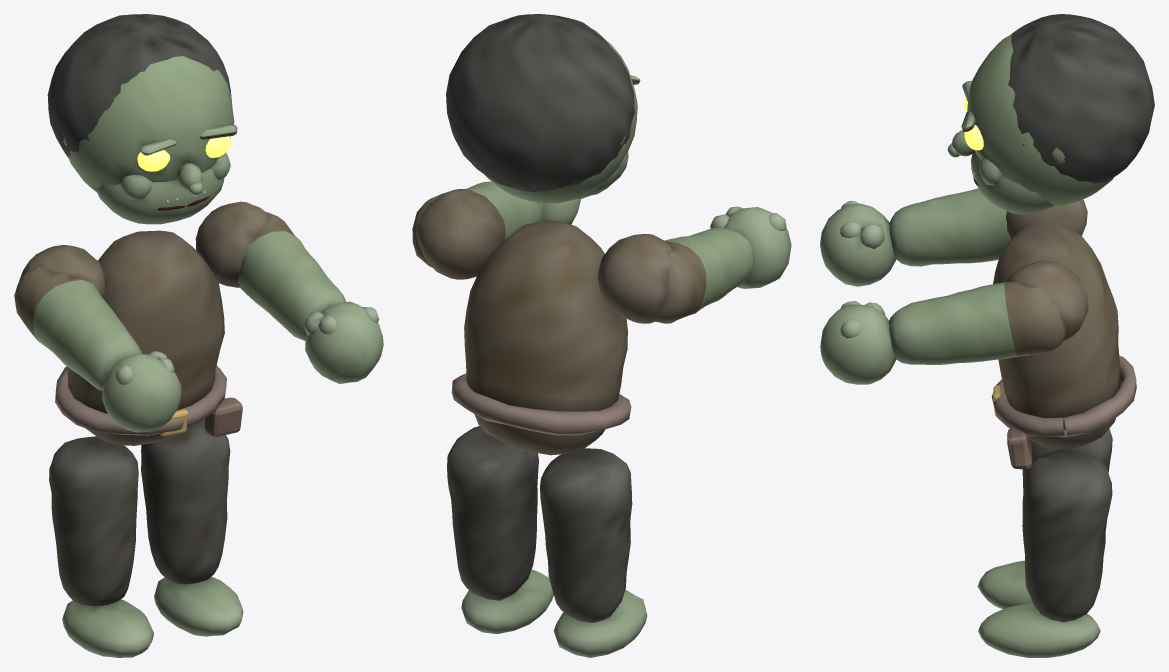
3 renders of one model, left to right at view 1: azimuth 30°, elevation 25°; view 2: azimuth 150°, elevation 25°; view 3: azimuth 270°, elevation 25°, orthographic. The views are drawn at different scales.
Visible parts, largest first — view 1: head, torso, legR, legL, armR, armL; view 2: torso, head, legR, legL, armR, armL; view 3: head, torso, legL, armL, armR, legR.
Part boxes in pixels (x1,y1,x2,y2): head: (47, 14, 237, 224); torso: (19, 201, 268, 445); legR: (49, 436, 153, 657); legL: (141, 419, 243, 636); armR: (14, 267, 181, 432); armL: (237, 212, 383, 383); torso: (415, 189, 672, 455); head: (446, 14, 640, 203); legR: (540, 448, 647, 657); legL: (447, 426, 553, 633); armR: (654, 206, 791, 323); armL: (412, 181, 580, 267); head: (947, 14, 1154, 214); torso: (991, 199, 1136, 469); legL: (978, 449, 1112, 657); armL: (820, 281, 1066, 384); armR: (820, 188, 1010, 286); legR: (977, 428, 1112, 609).
Bounding box in the file's own units: 0.4472 × 0.956 × 0.477.
